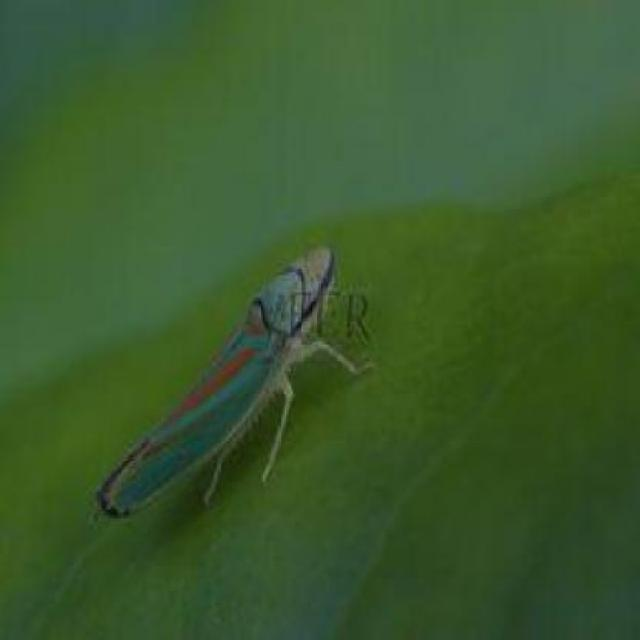green-leafhopper: (97, 245, 361, 529)
